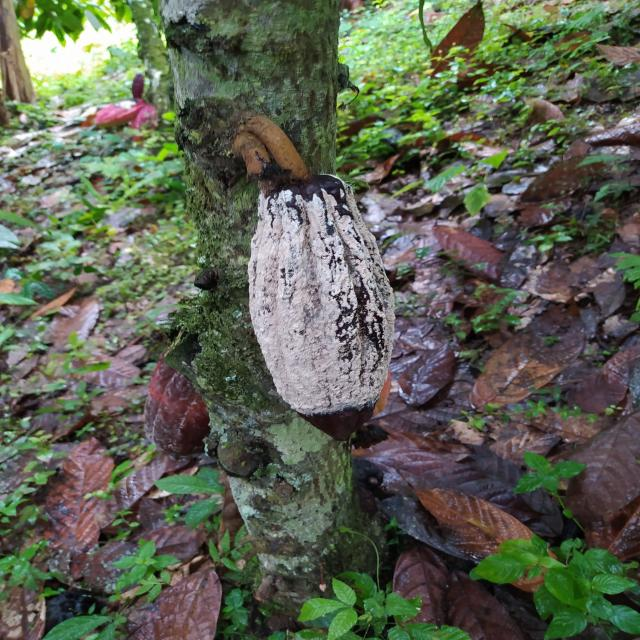Monilia: (246, 174, 398, 446)
